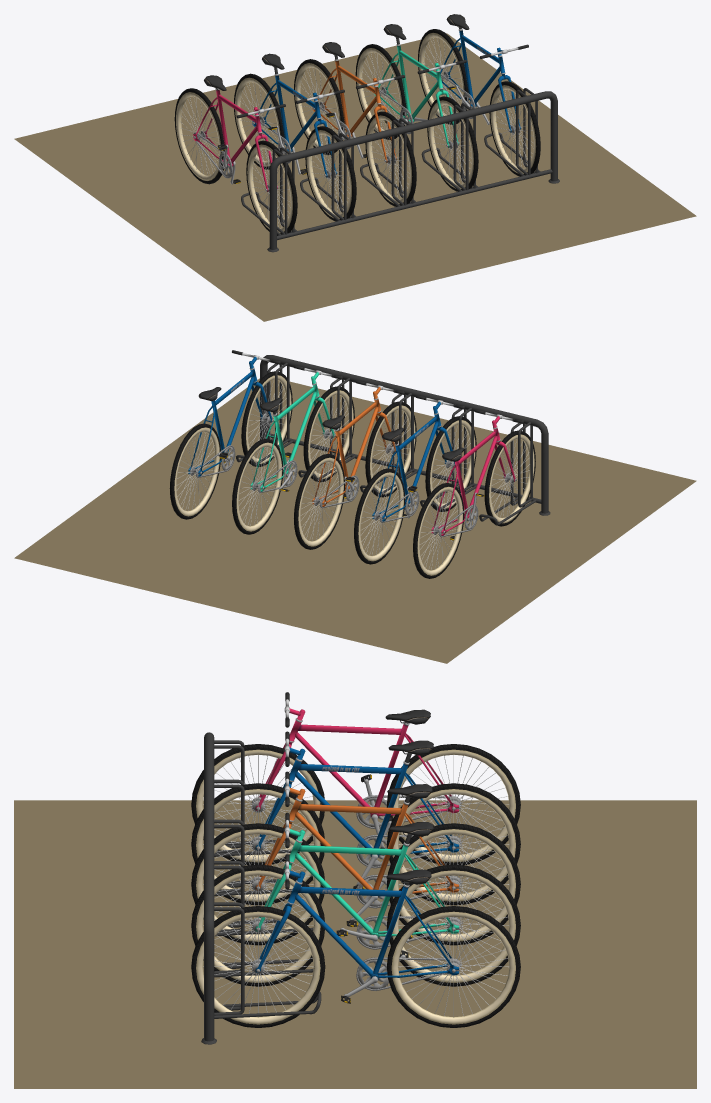
3 views of the same model, one above another, from view 1: azimuth 30°, elevation 25°; view 2: azimuth 150°, elevation 25°; view 3: azimuth 270°, elevation 25° (orthographic). The views are drawn at different scales.
Visible parts, largest first — view 1: floor, bic_main; view 2: floor, bic_main; view 3: floor, bic_main.
Boxes of the visible parts, x1,y1,x2,y2 form: floor: [14, 33, 696, 321]; bic_main: [174, 14, 559, 252]; floor: [14, 378, 696, 663]; bic_main: [169, 350, 550, 578]; floor: [14, 800, 696, 1088]; bic_main: [191, 692, 520, 1044].
Bounding box in the file's own units: 4.26 × 1.11 × 4.26.
Materials: 2 (1 with a texture image).
